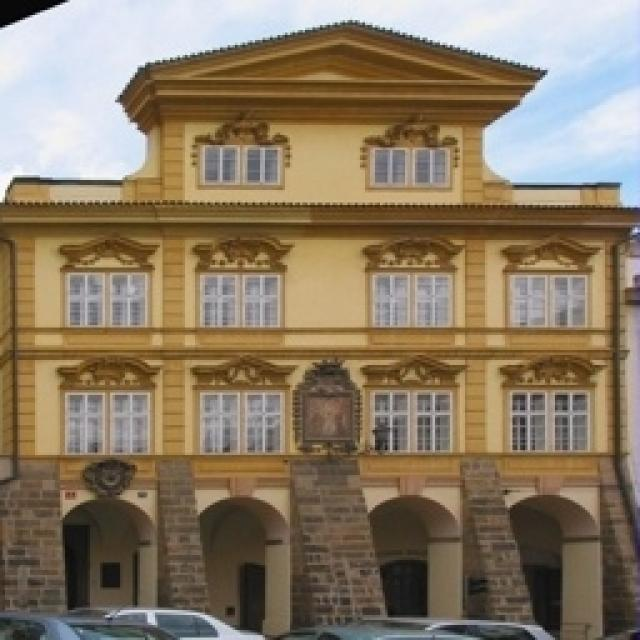building: (7, 32, 640, 635)
